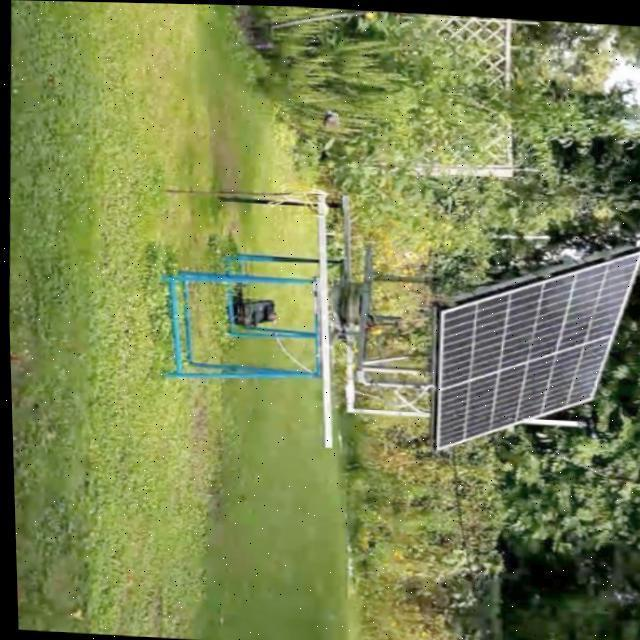Normal Solar Panel: (425, 232, 640, 455)
